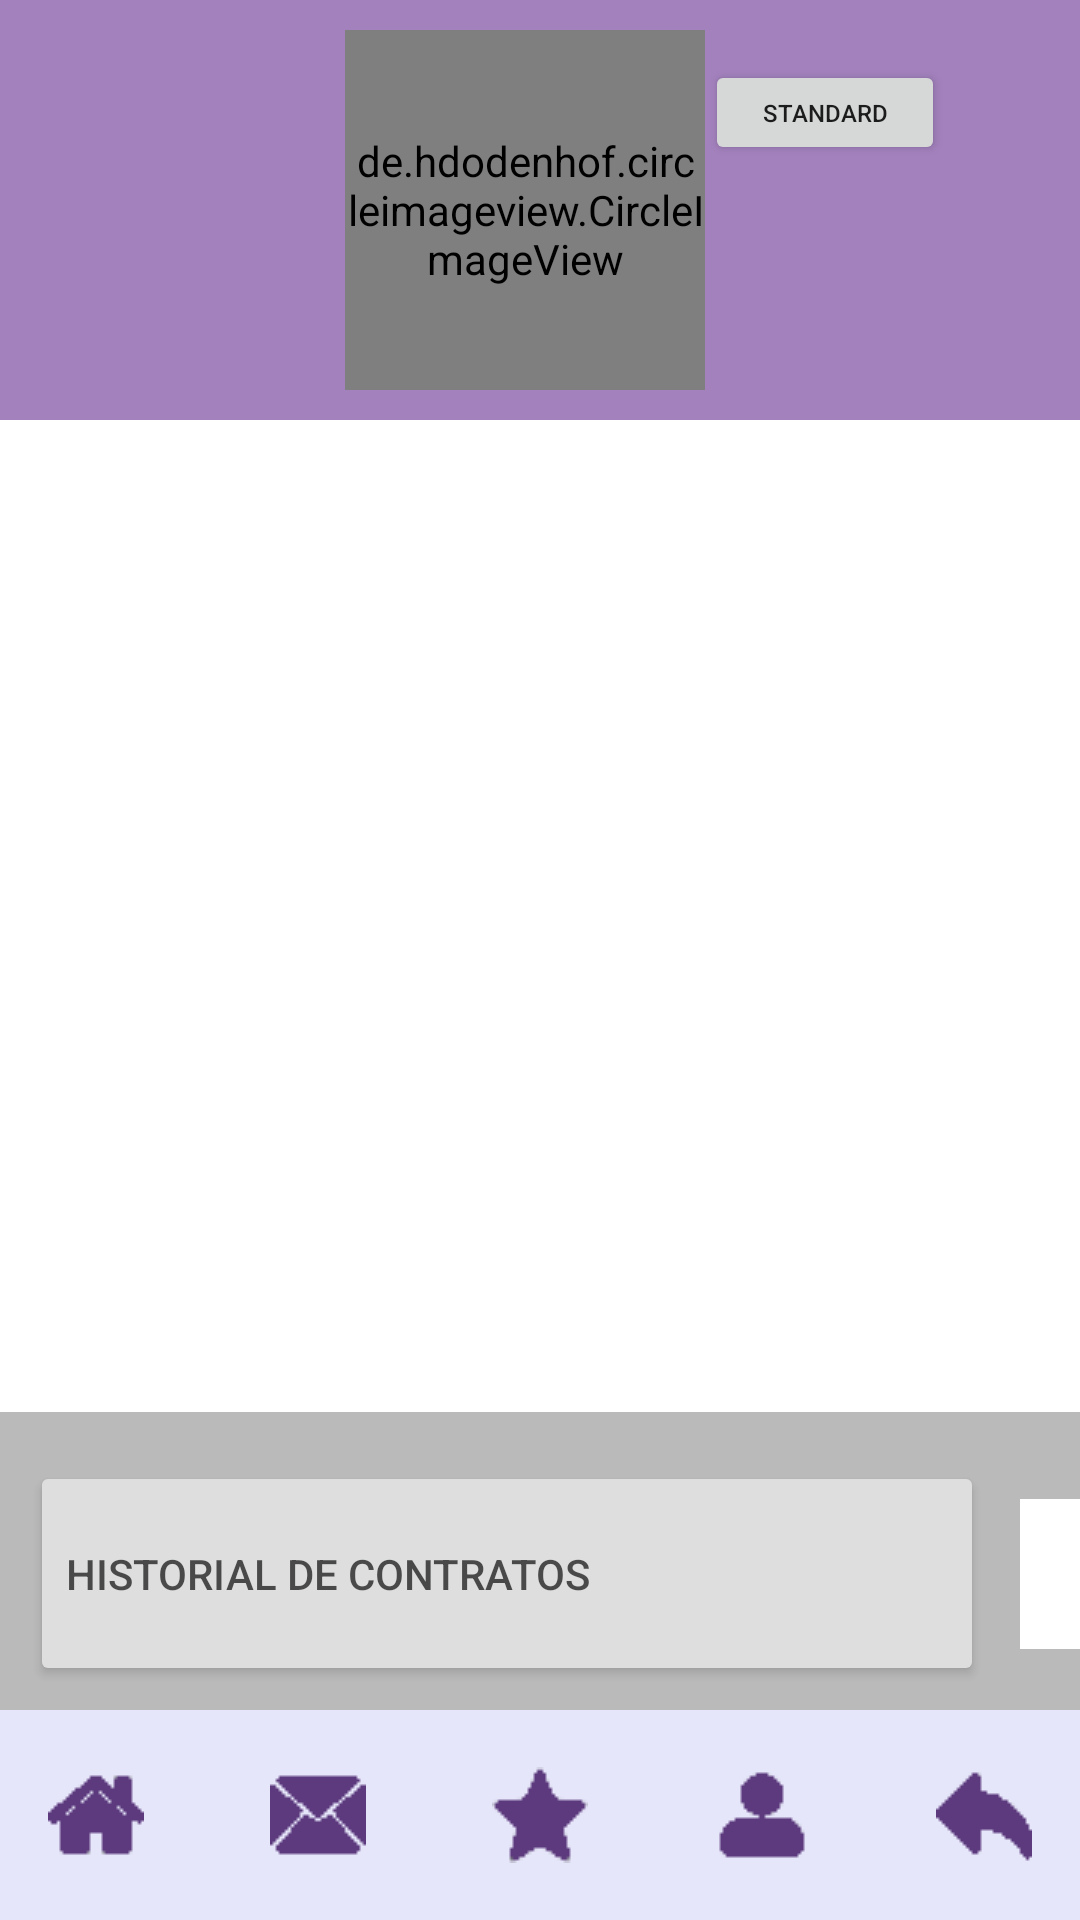

Named icons in this screenshot (1080 x 1920) and their bounding boxes, {"left": x1, "top": y1, "right": x2, "bottom": y2}:
back: {"left": 936, "top": 1772, "right": 1032, "bottom": 1861}
buzon: {"left": 270, "top": 1775, "right": 366, "bottom": 1855}
favorito: {"left": 492, "top": 1769, "right": 588, "bottom": 1863}
inicio: {"left": 48, "top": 1775, "right": 144, "bottom": 1855}
perfil: {"left": 719, "top": 1772, "right": 805, "bottom": 1858}
